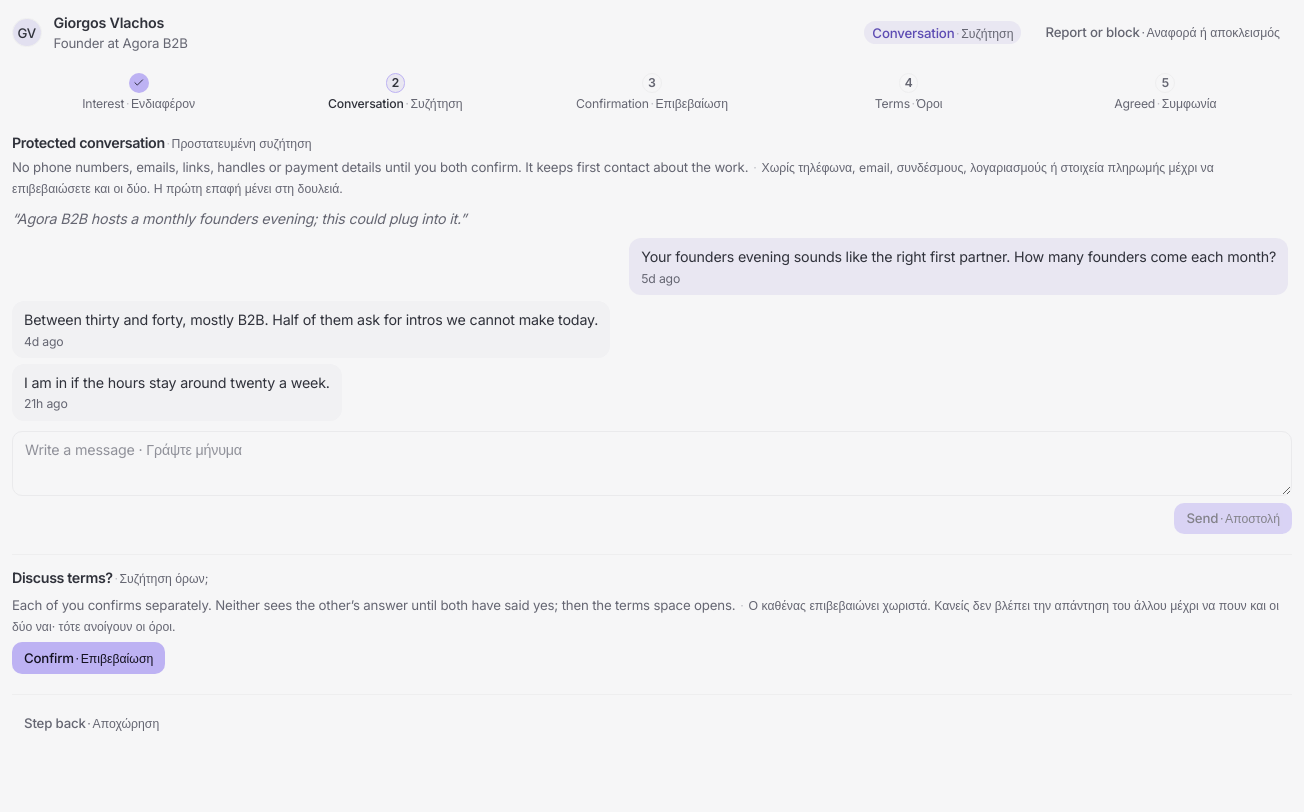
Test: ThreadWorkspace › blocks Send while a message carries contact details and says why
Type "my email is alex@example.com" into the text box labelled "Write a message · Γράψτε μήνυμα". click: {"x": 652, "y": 463}
box: [12,430,1292,496]
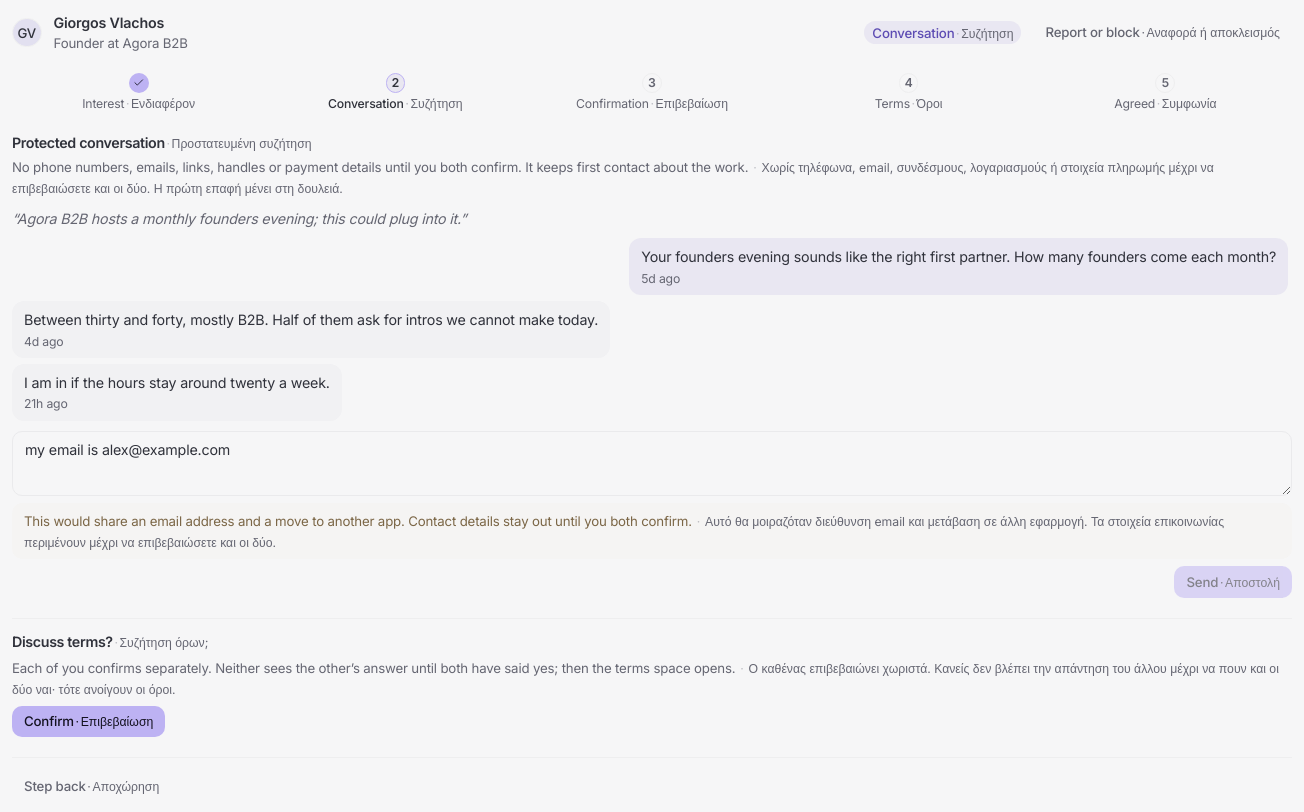
Check: the button "Send ·Αποστολή" is disabled, box [1174,566,1292,598]
Check: the message shows "an email address", box [24,513,692,529]
Replace the text in the text box named "Write a message" with "Happy to start with your founders evening.". click: {"x": 652, "y": 463}
box: [12,430,1292,496]
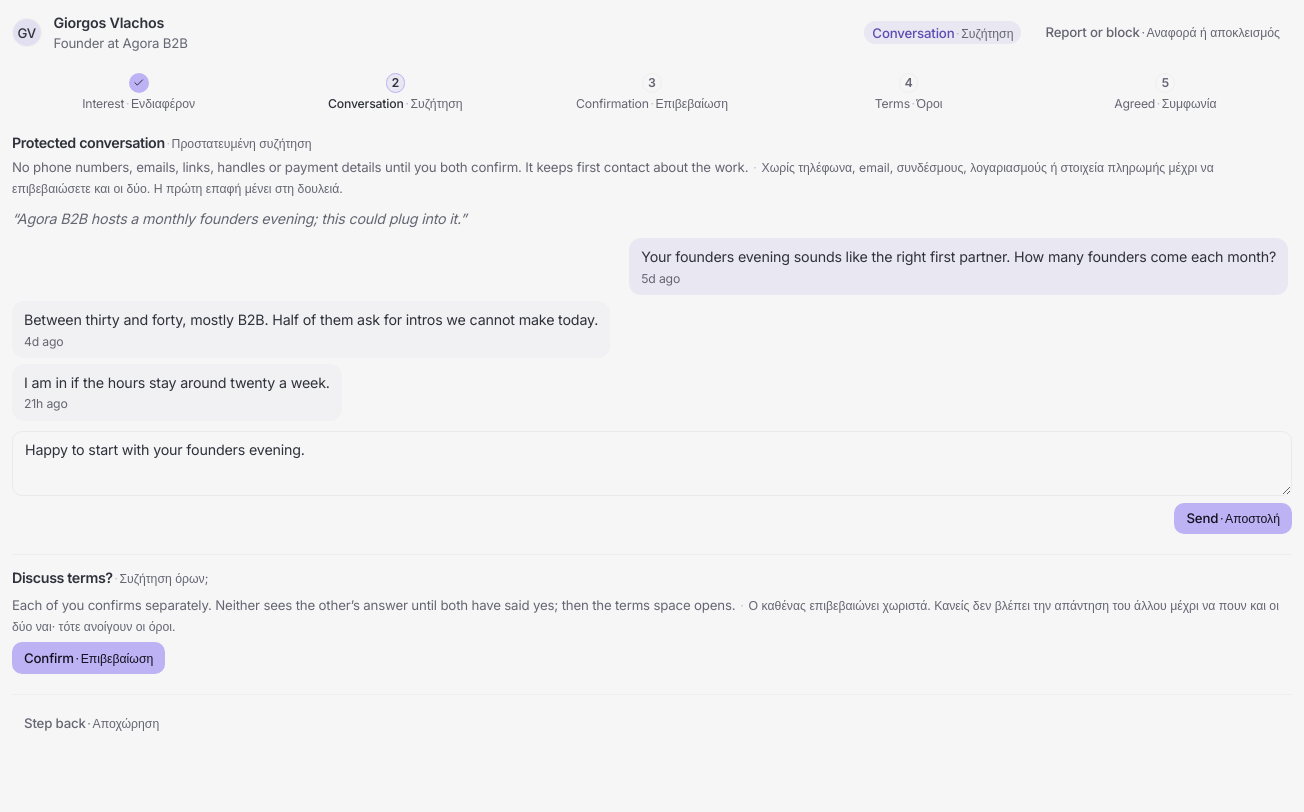
Check: the button "Send ·Αποστολή" is enabled, box [1174,503,1292,534]
